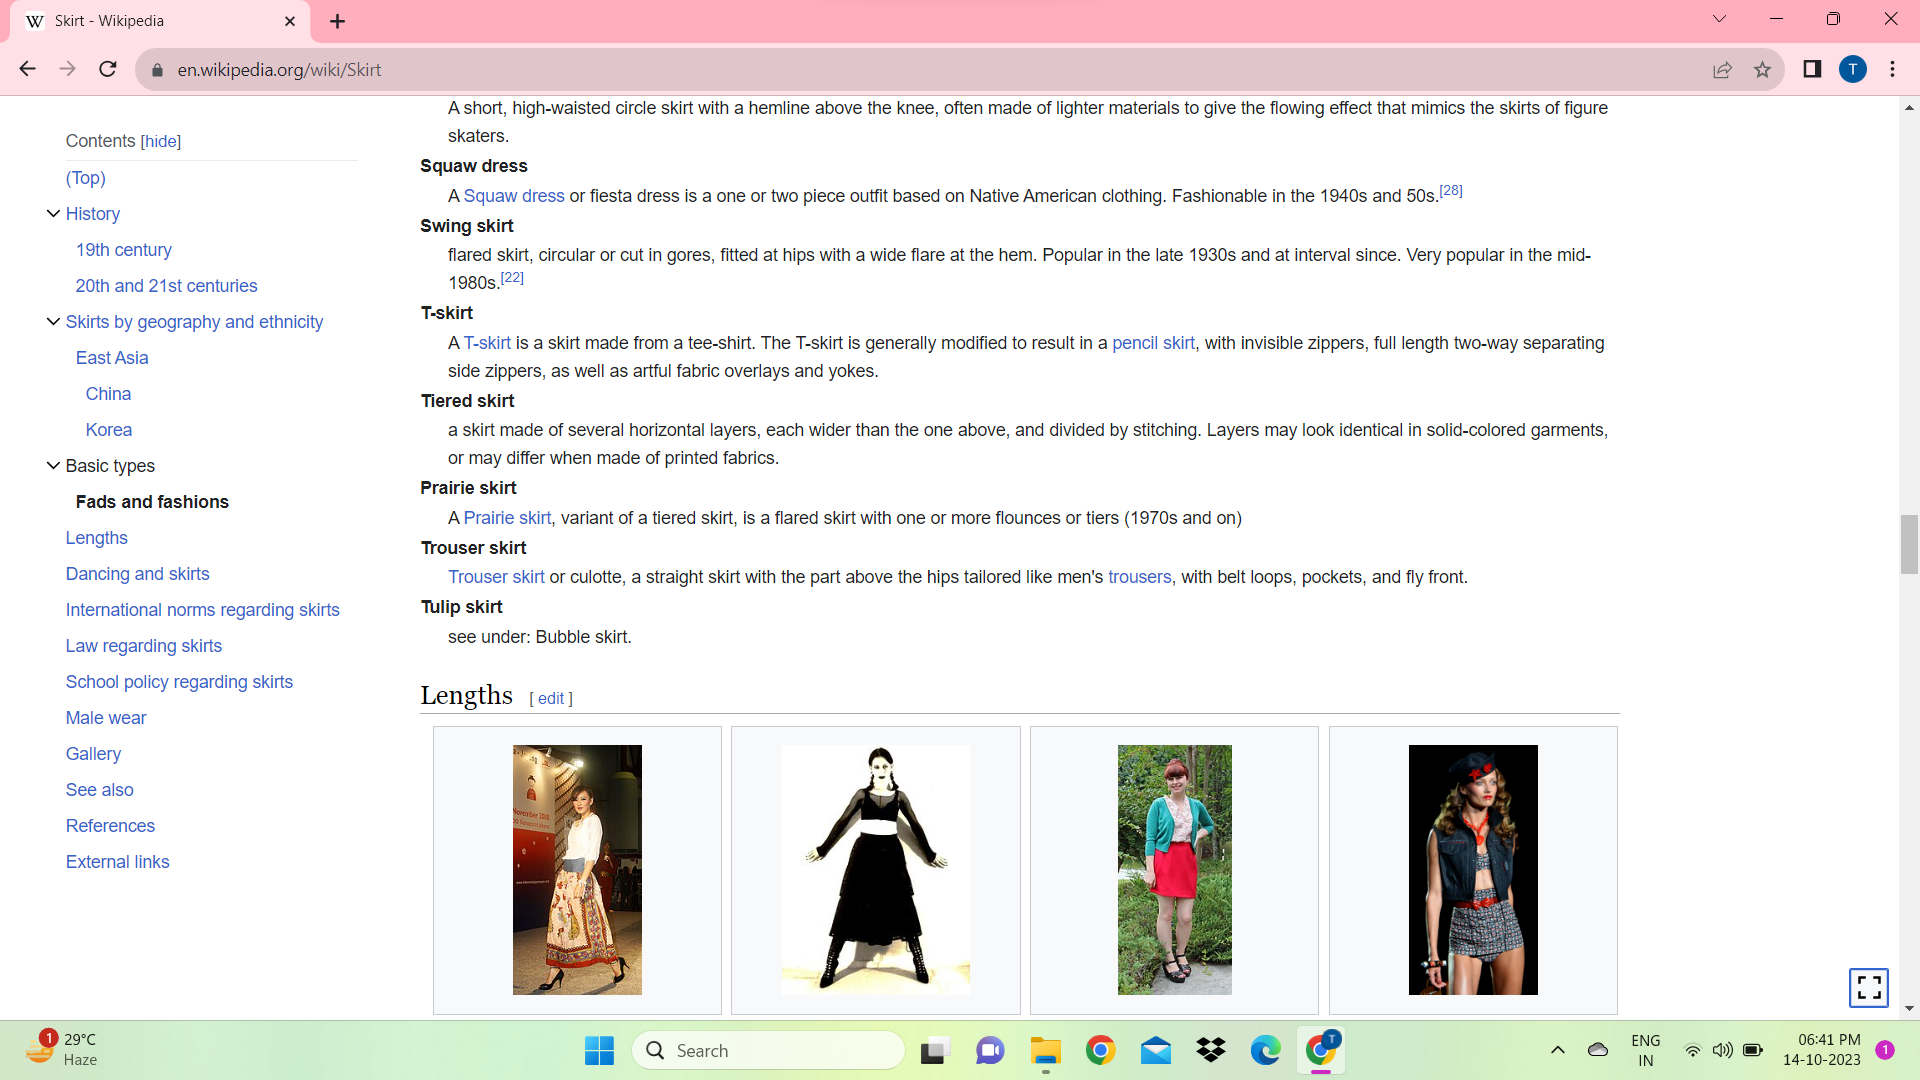Image: (1377, 729, 1585, 1005), (1065, 733, 1275, 1005), (796, 727, 969, 1014), (506, 736, 641, 1001)
Paragraph: (442, 330, 1655, 384), (435, 99, 1625, 149), (440, 423, 1611, 472), (438, 248, 1598, 282), (442, 563, 1478, 591), (435, 186, 1489, 210), (435, 506, 1249, 530), (51, 591, 347, 621), (58, 667, 302, 696), (50, 630, 245, 662), (61, 311, 326, 332), (67, 274, 282, 299), (69, 483, 240, 512), (50, 839, 183, 876), (411, 207, 543, 241), (394, 678, 526, 712), (406, 152, 567, 177), (410, 535, 554, 560), (455, 628, 634, 647), (50, 563, 216, 584), (58, 129, 196, 153), (51, 705, 169, 733), (401, 393, 529, 417), (54, 451, 181, 475), (410, 589, 516, 617), (404, 293, 502, 322), (57, 807, 169, 832), (414, 475, 535, 496), (67, 347, 173, 371), (74, 235, 181, 257), (50, 526, 146, 549), (57, 164, 125, 194), (71, 421, 166, 442), (58, 774, 142, 798), (61, 199, 128, 220), (50, 746, 132, 764), (84, 382, 149, 401)
